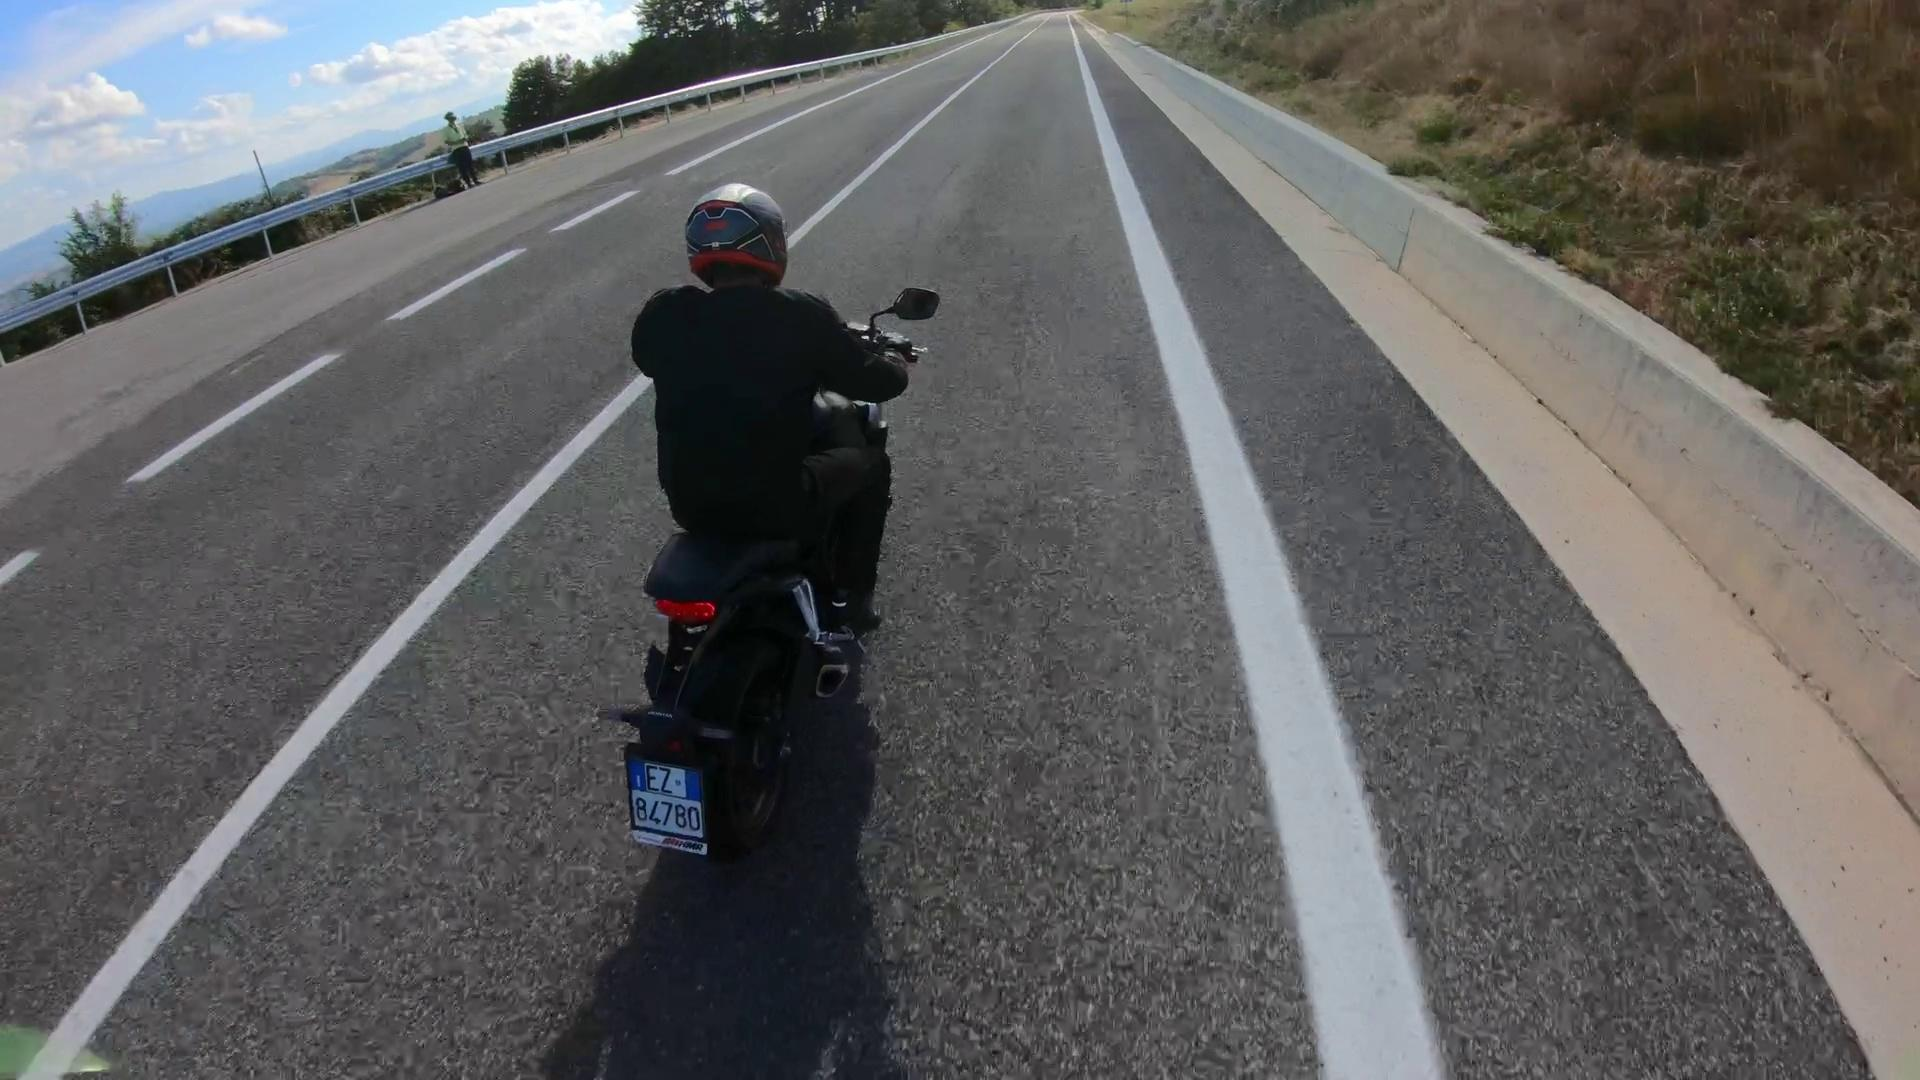cow: (627, 287, 938, 868)
horse: (635, 175, 915, 637)
